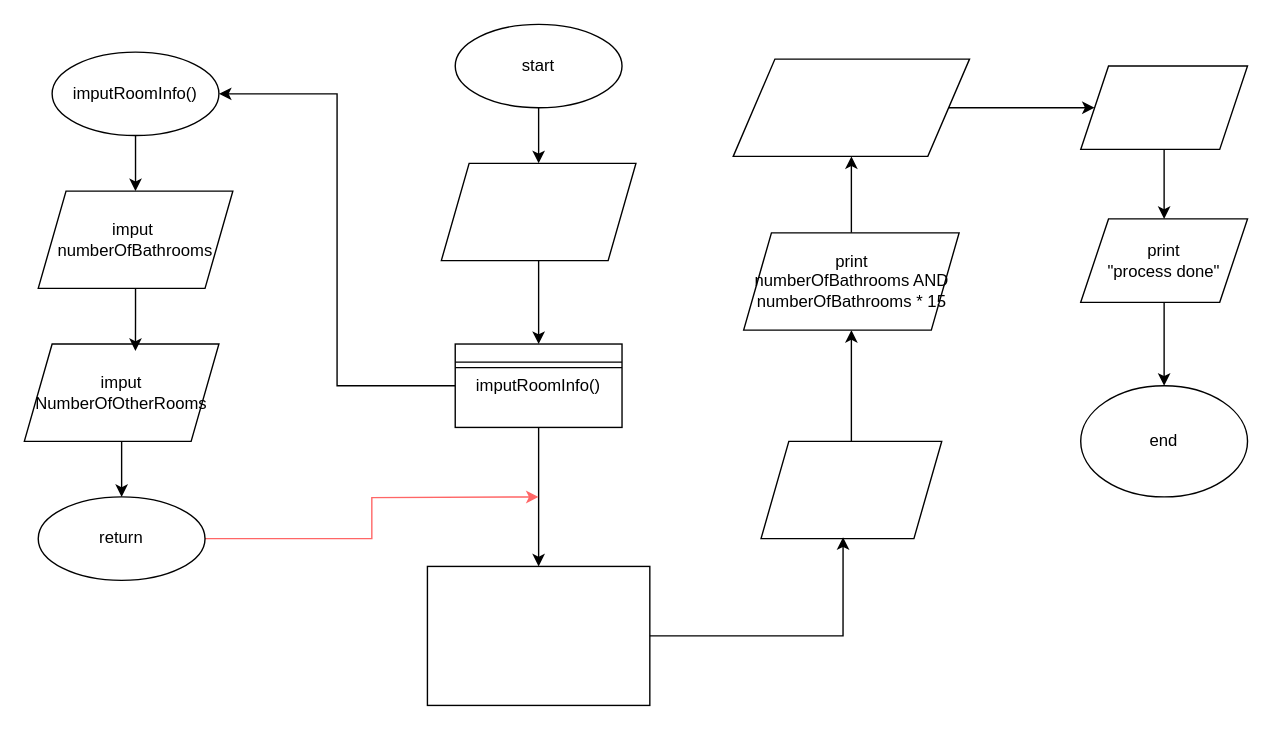
Image size: 1272x730. Some labels were removed from this diagram. The shapes that lost their labels are listed below. From the top down, each one's centre as x and y in pixels, then its label:
the point at 851,107: print numberOfOtherRooms AND numberOfOtherRooms * 10
the point at 1163,107: print answer
the point at 538,211: imput customerLastName = "please enter your last name"
the point at 851,489: print customerLastName
the point at 538,635: answer = 40+ (numberOfBathrooms * 15) + (numberOfOtherRooms * 10)
